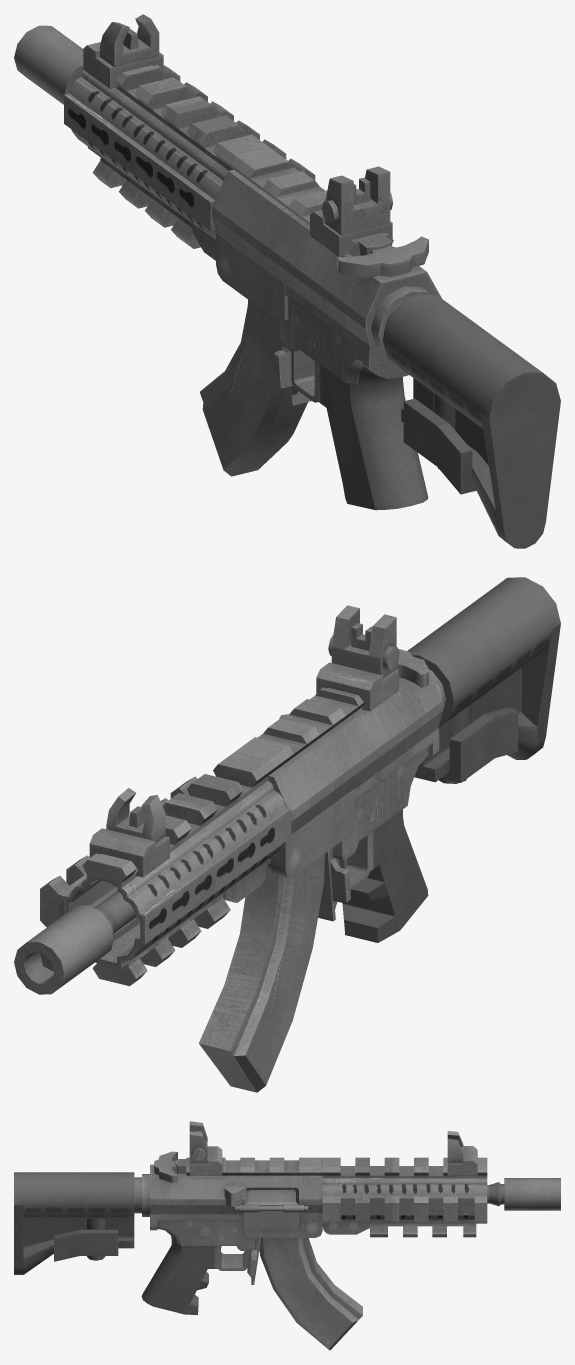
File: IG_Gun_MK47.fbx
The picture shows the model from 3 angles, top to bottom: view 1: azimuth 30°, elevation 25°; view 2: azimuth 150°, elevation 25°; view 3: azimuth 270°, elevation 25°; orthographic projection. The views are drawn at different scales.
Visible parts, largest first — view 1: WPN_MK47, HideIf_Stock, HideIf_Scope, HideIf_Muzzle, ShowIf_Grip, ShowIf_Tec; view 2: WPN_MK47, HideIf_Stock, HideIf_Scope, HideIf_Muzzle, ShowIf_Grip, ShowIf_Tec; view 3: WPN_MK47, HideIf_Stock, ShowIf_Tec, HideIf_Scope, HideIf_Muzzle, ShowIf_Grip.
Boxes of the visible parts, box(x1,y1,x2,y2) form: WPN_MK47: box(64, 55, 441, 510); HideIf_Stock: box(371, 286, 560, 548); HideIf_Scope: box(83, 14, 393, 256); HideIf_Muzzle: box(14, 25, 83, 104); ShowIf_Grip: box(92, 158, 200, 248); ShowIf_Tec: box(162, 65, 315, 180); WPN_MK47: box(64, 649, 442, 1092); HideIf_Stock: box(407, 577, 560, 783); HideIf_Scope: box(89, 605, 399, 877); HideIf_Muzzle: box(14, 905, 114, 994); ShowIf_Grip: box(92, 895, 230, 986); ShowIf_Tec: box(40, 776, 197, 927); WPN_MK47: box(141, 1151, 504, 1350); HideIf_Stock: box(14, 1172, 149, 1274); ShowIf_Tec: box(322, 1196, 487, 1222); HideIf_Scope: box(189, 1121, 477, 1175); HideIf_Muzzle: box(504, 1178, 560, 1210); ShowIf_Grip: box(370, 1223, 476, 1237).
Bounding box in the file's own units: 0.1444 × 0.4921 × 1.12.
